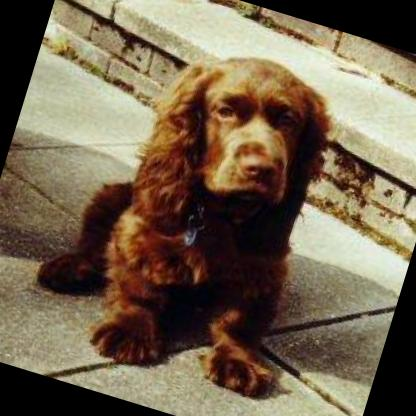Sussex_spaniel: (18, 11, 366, 404)
